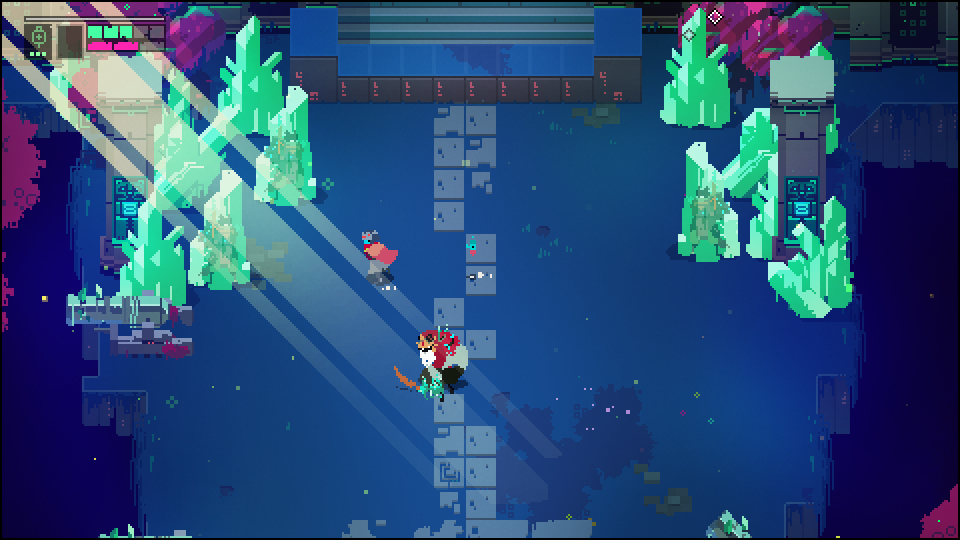hanged_man: (391, 324, 471, 405)
player: (358, 227, 402, 282)
